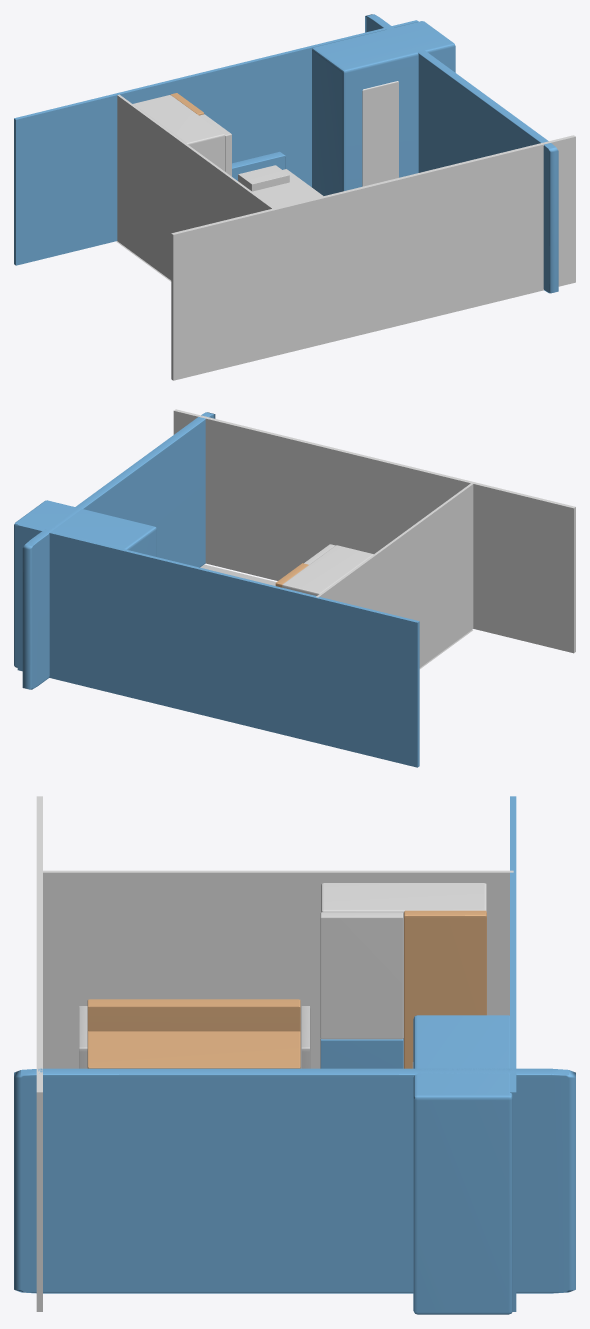
File: room.fbx
3 renders of one model, top to bottom at view 1: azimuth 30°, elevation 25°; view 2: azimuth 150°, elevation 25°; view 3: azimuth 270°, elevation 25°, orthographic. The views are drawn at different scales.
Parts seen in each view (by area): view 1: pPlane2; view 2: pPlane2; view 3: pPlane2.
Part boxes in pixels (x1,y1,x2,y2): pPlane2: (14, 14, 575, 380); pPlane2: (14, 409, 575, 767); pPlane2: (14, 796, 575, 1314).
Bounding box in the file's own units: 67.08 × 23.52 × 53.08.
